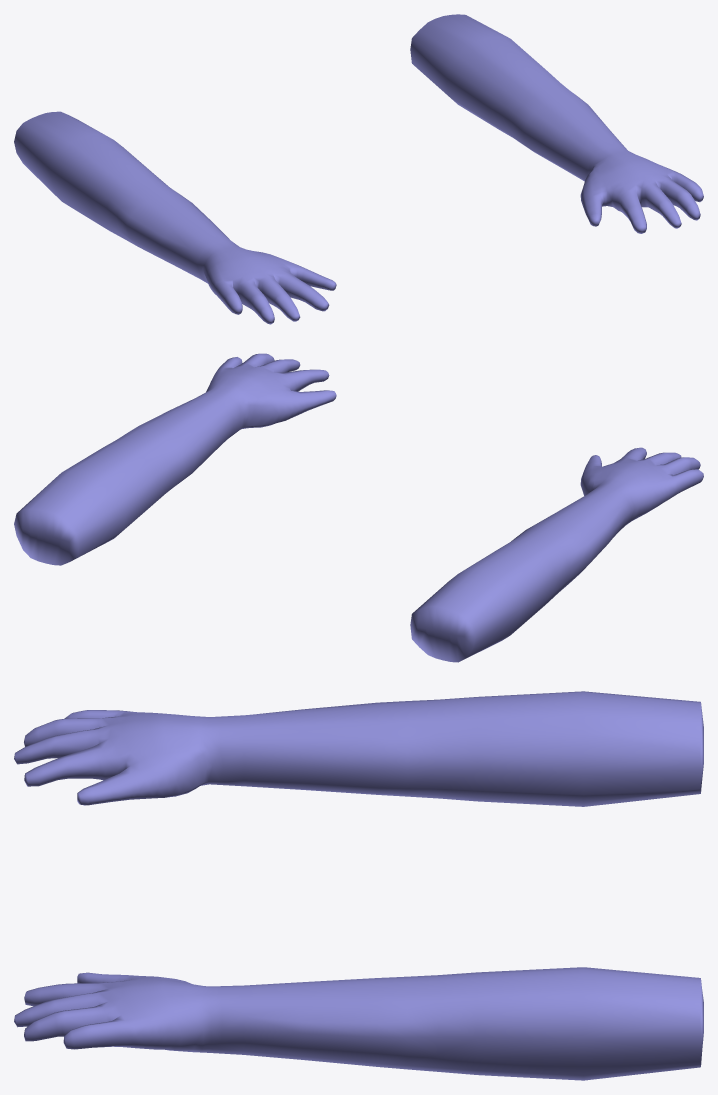
The model's file is Mouse_Hands.fbx.
3 views of the same model, one above another, from view 1: azimuth 30°, elevation 25°; view 2: azimuth 150°, elevation 25°; view 3: azimuth 270°, elevation 25° (orthographic). The views are drawn at different scales.
Visible parts, largest first — view 1: geo_mouse_hands; view 2: geo_mouse_hands; view 3: geo_mouse_hands.
Part boxes in pixels (<box>): geo_mouse_hands: <box>14,14,703,324</box>; geo_mouse_hands: <box>14,353,703,662</box>; geo_mouse_hands: <box>14,691,703,1080</box>.
Size of the model in its own units: 63.72 by 8.93 by 57.17.
